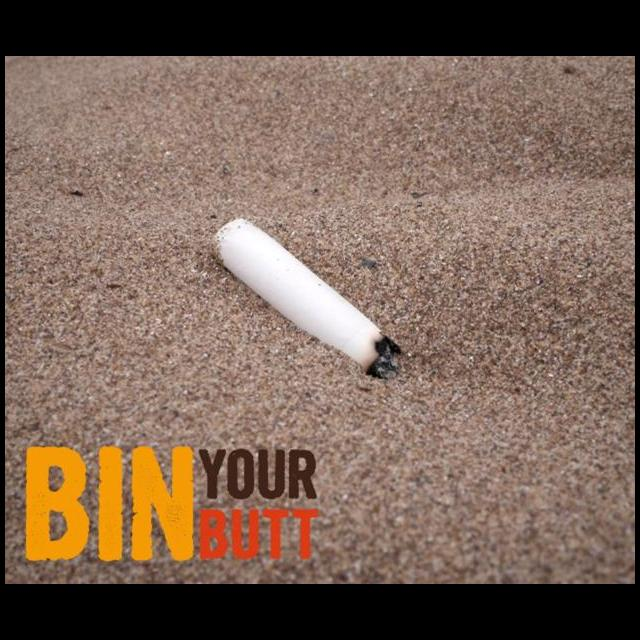Cigarette Butt: (210, 218, 405, 384)
